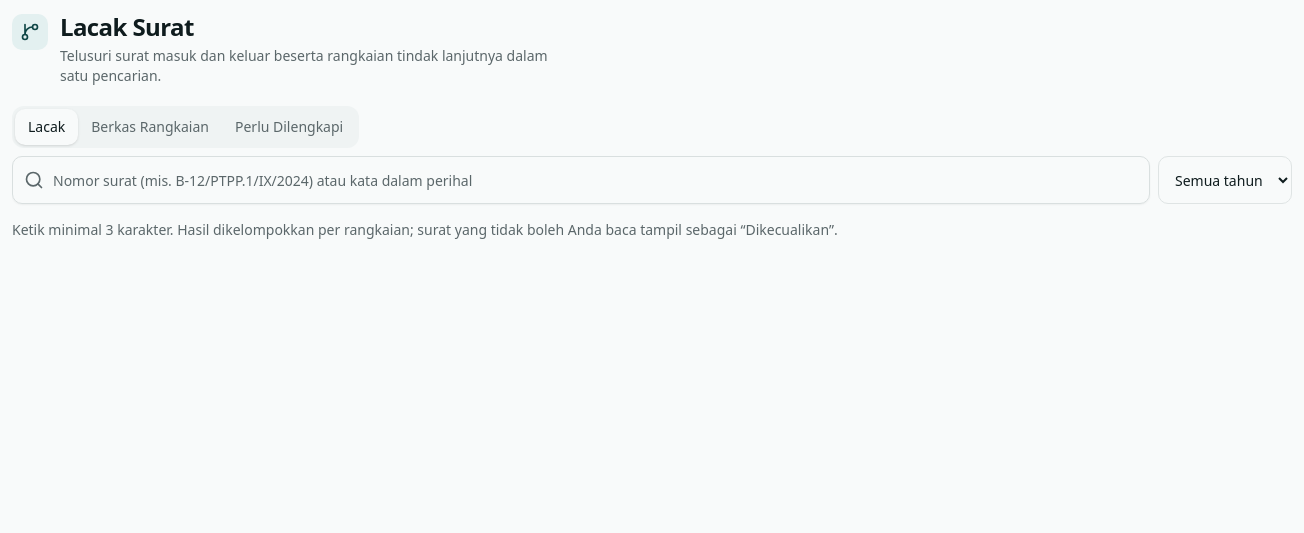
Test: Halaman Lacak Surat › menunda pencarian 300 ms, menyinkronkan ?q= dengan replace, dan mengirim satu permintaan
Step 1. Replace the text in the search field named "Nomor surat atau perihal" with "B-1" → (581, 180), box [12,156,1150,204]
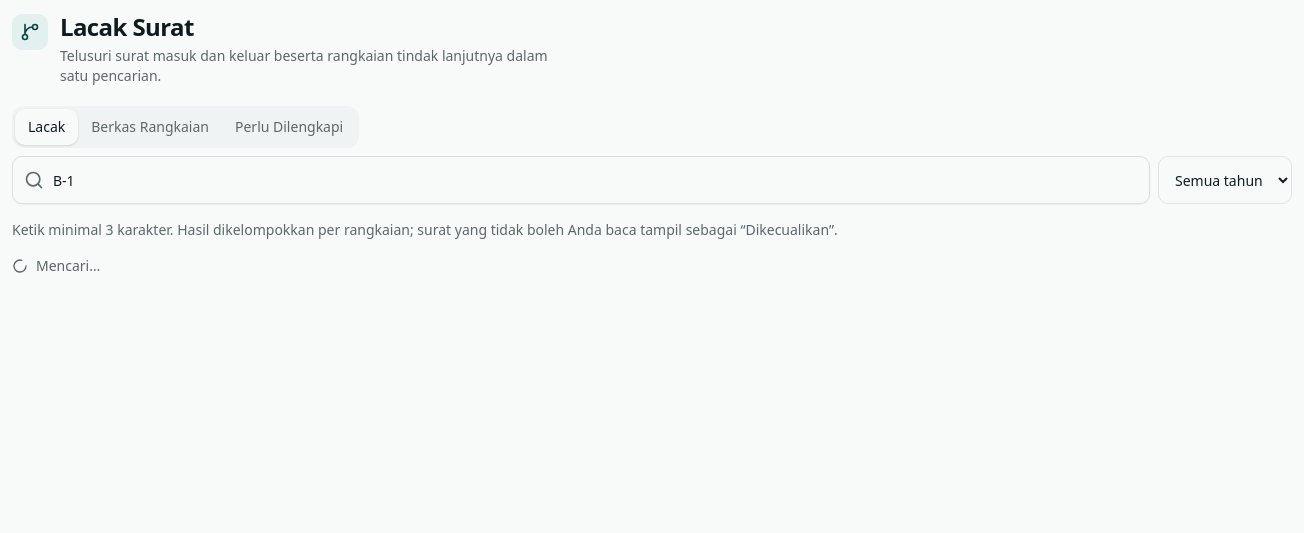
Step 2. Replace the text in the search field named "Nomor surat atau perihal" with "B-12" → (581, 180), box [12,156,1150,204]
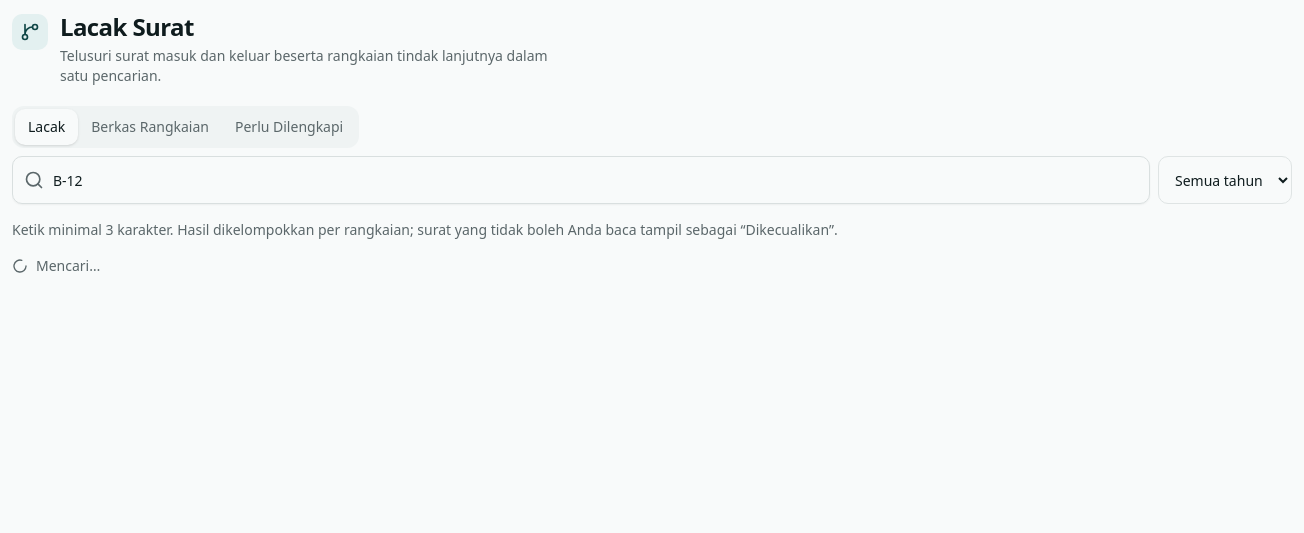
Step 3. Replace the text in the search field named "Nomor surat atau perihal" with "B-12/PTPP" → (581, 180), box [12,156,1150,204]
Wait 300 ms
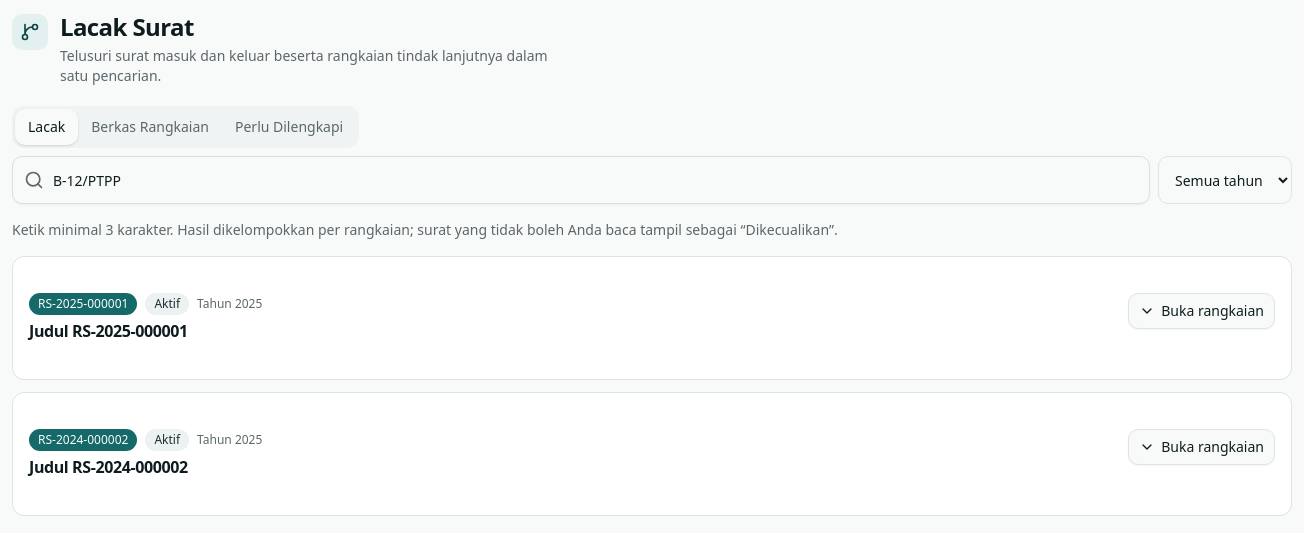
Check: the heading "Judul RS-2025-000001" is shown, box [29,320,188,342]
